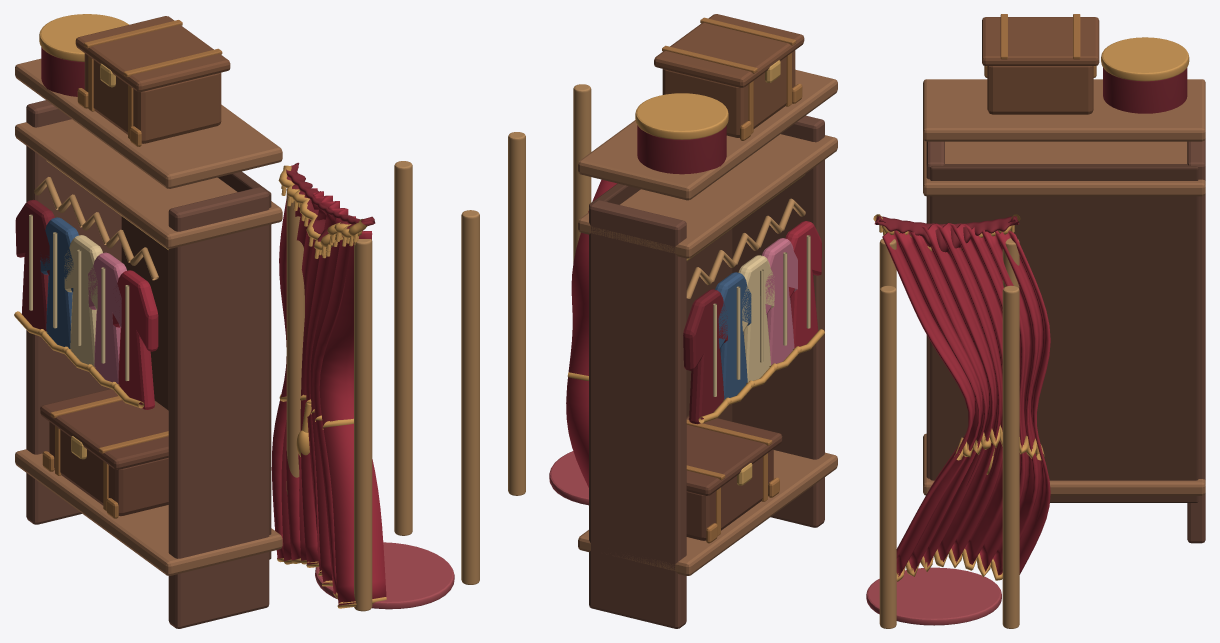
File: SM_Hub_Wardrobe.fbx
3 renders of one model, left to right at view 1: azimuth 30°, elevation 25°; view 2: azimuth 150°, elevation 25°; view 3: azimuth 270°, elevation 25°, orthographic. The views are drawn at different scales.
Parts seen in each view (by area): view 1: Wardrobe upright.002_Baked; view 2: Wardrobe upright.002_Baked; view 3: Wardrobe upright.002_Baked.
Boxes of the visible parts, x1,y1,x2,y2 form: Wardrobe upright.002_Baked: (14, 14, 479, 628); Wardrobe upright.002_Baked: (508, 14, 837, 628); Wardrobe upright.002_Baked: (866, 14, 1205, 628).
Bounding box in the file's own units: 172 × 185 × 293.
